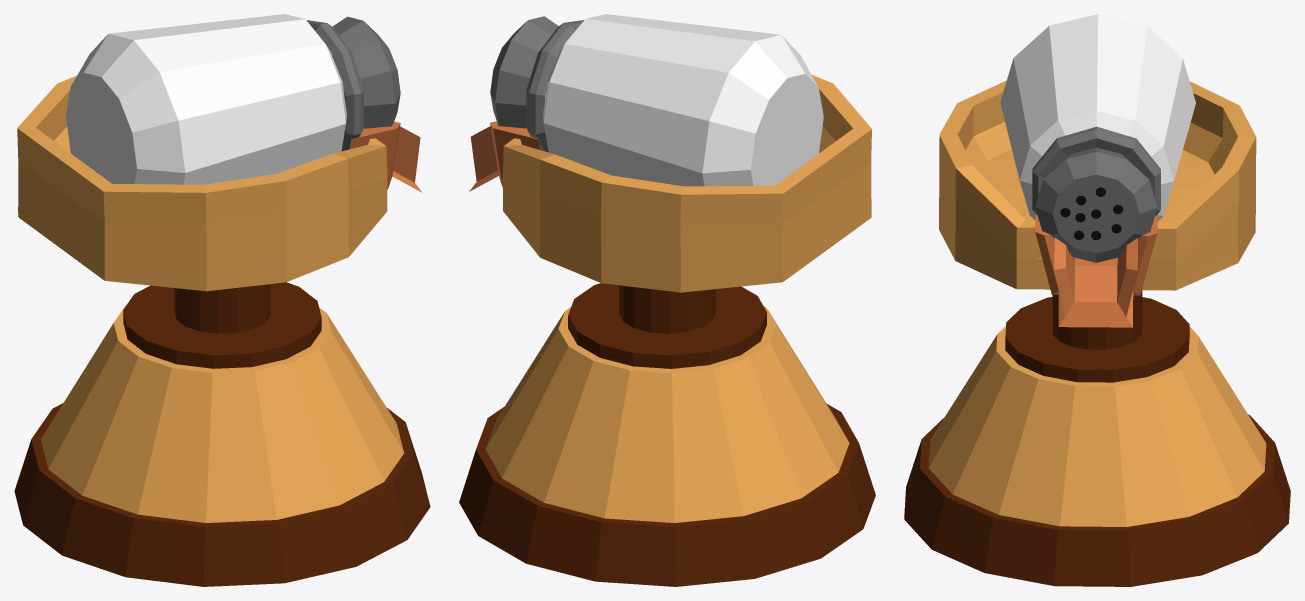
The model's file is tuzdoker_taretv5.fbx.
The picture shows the model from 3 angles, left to right: view 1: azimuth 30°, elevation 25°; view 2: azimuth 150°, elevation 25°; view 3: azimuth 270°, elevation 25°; orthographic projection. The views are drawn at different scales.
Parts seen in each view (by area): view 1: parentlı?tuz?doker.001, tuzdoker ust.001; view 2: parentlı?tuz?doker.001, tuzdoker ust.001; view 3: parentlı?tuz?doker.001, tuzdoker ust.001.
Boxes of the visible parts, x1=… form: parentlı?tuz?doker.001: x1=14, y1=282, x2=430, y2=586; tuzdoker ust.001: x1=17, y1=14, x2=422, y2=291; parentlı?tuz?doker.001: x1=459, y1=283, x2=875, y2=586; tuzdoker ust.001: x1=469, y1=14, x2=871, y2=292; parentlı?tuz?doker.001: x1=904, y1=290, x2=1290, y2=586; tuzdoker ust.001: x1=939, y1=14, x2=1256, y2=327.
Size of the model in its own units: 244 by 312 by 243.
Materials: 3 (3 with a texture image).
